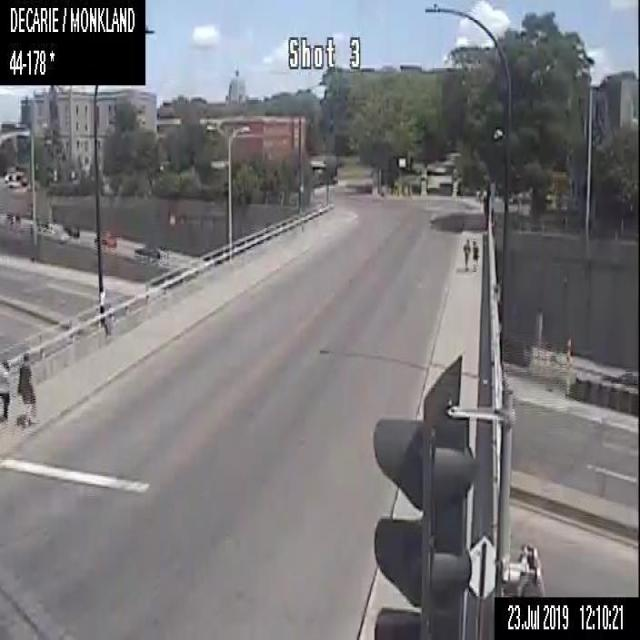pedestrian: (16, 348, 38, 425), (0, 356, 10, 421), (462, 237, 470, 272), (471, 238, 478, 270)
vehicle: (134, 242, 161, 258), (64, 221, 79, 236), (99, 232, 116, 245), (5, 209, 21, 220), (34, 211, 46, 225)
